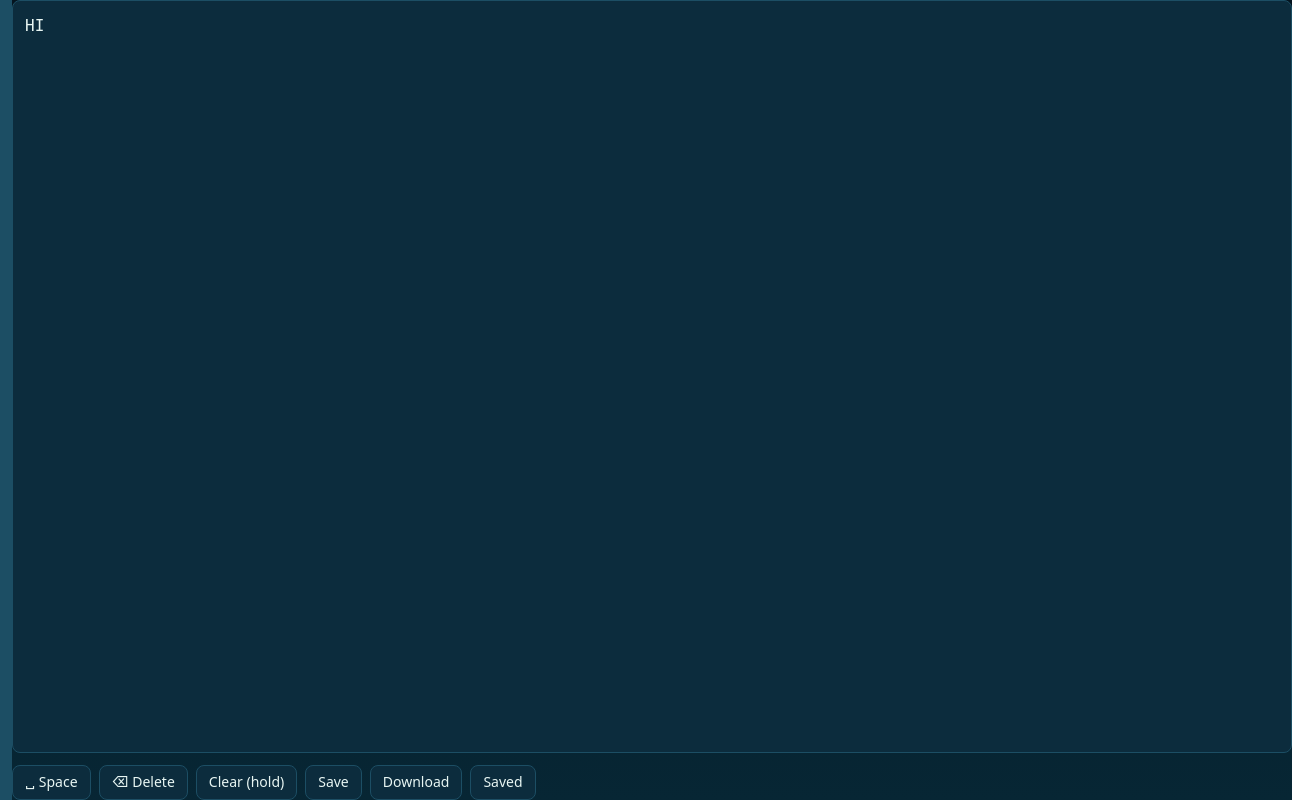
TrainPane › Saved panel prompts sign-in when logged out
The image size is (1292, 800).
Click the button "Saved".
click(503, 783)  # box [470,765,536,799]
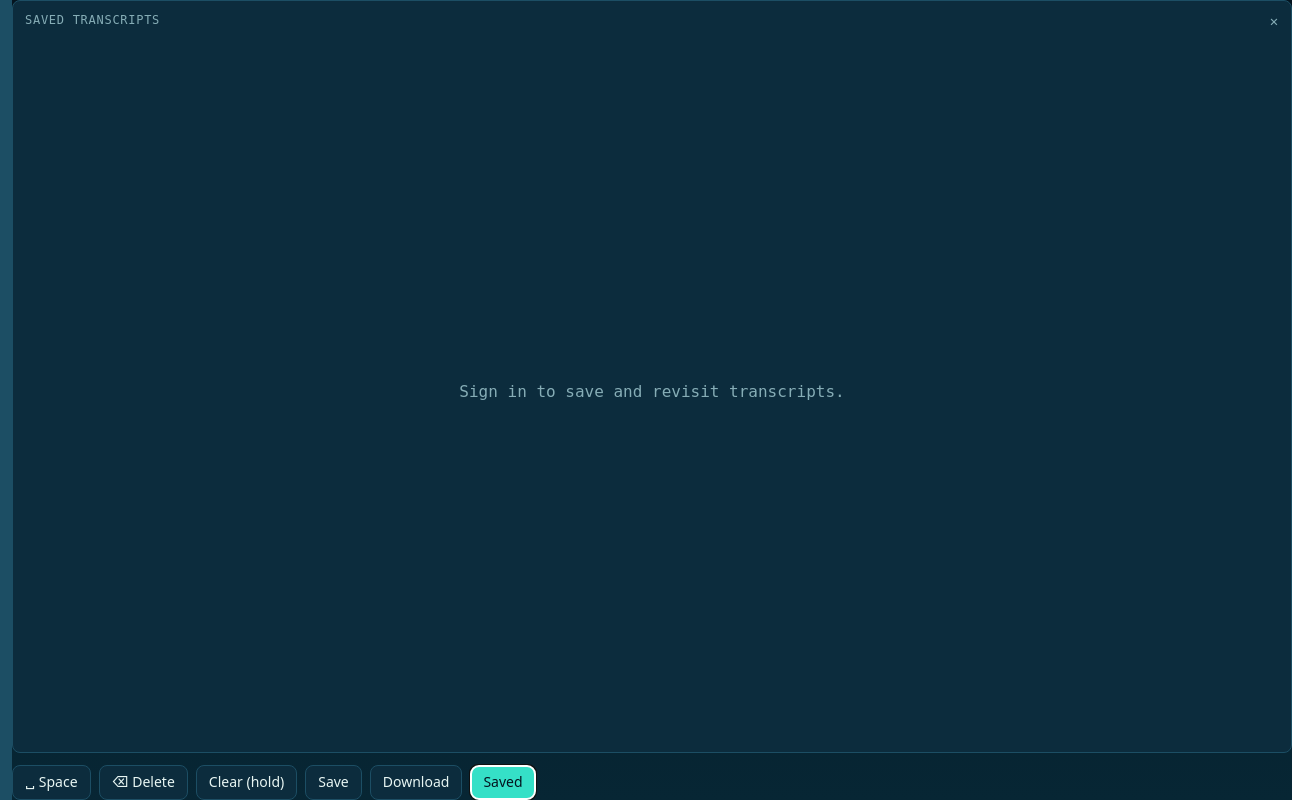
Now the text "Sign in to save and revisit transcripts." is shown, box [459,379,845,405]
